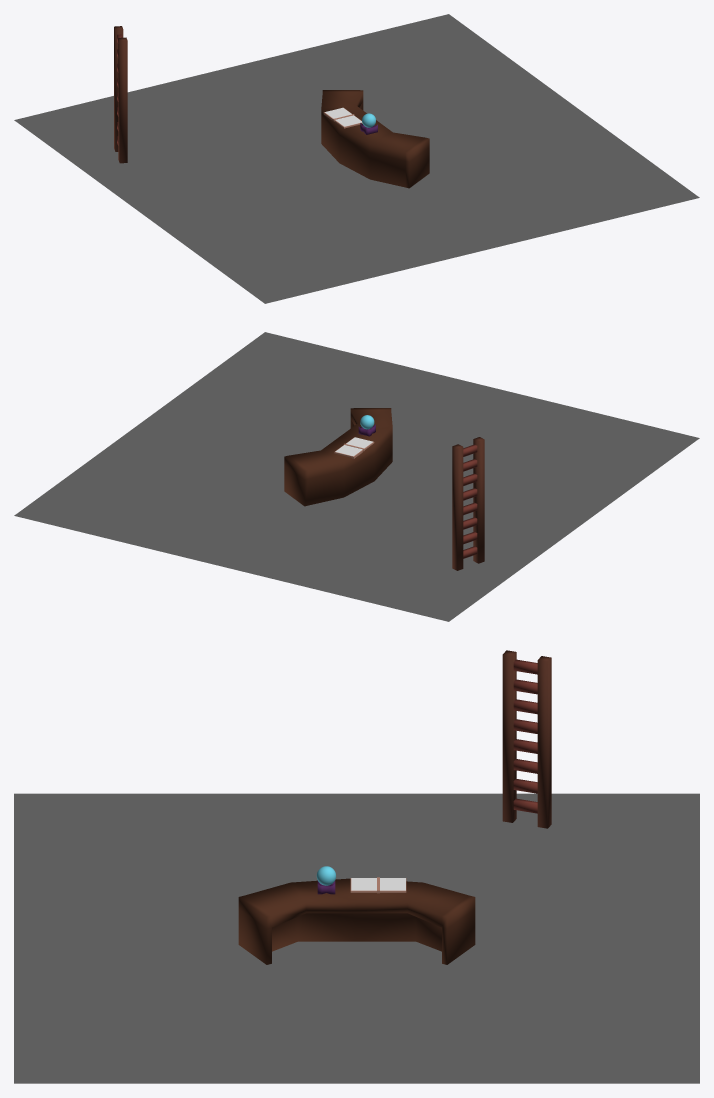
Rendered from firstFloorV1.fbx.
The picture shows the model from 3 angles, top to bottom: view 1: azimuth 30°, elevation 25°; view 2: azimuth 150°, elevation 25°; view 3: azimuth 270°, elevation 25°; orthographic projection. The views are drawn at different scales.
Visible parts, largest first — view 1: floor, Table, Ladder, Book; view 2: floor, Table, Ladder, ladder steps, Book; view 3: floor, Table, Ladder, ladder steps, Book.
Part boxes in pixels (box(x1,y1,x2,y2)): floor: box(14, 14, 699, 303); Table: box(321, 90, 429, 188); Ladder: box(114, 26, 127, 163); Book: box(323, 107, 362, 128); floor: box(14, 332, 699, 621); Table: box(284, 408, 392, 506); Ladder: box(452, 437, 484, 570); ladder steps: box(463, 444, 477, 558); Book: box(334, 437, 374, 458); floor: box(14, 793, 699, 1083); Table: box(238, 878, 475, 964); Ladder: box(502, 650, 551, 828); ladder steps: box(513, 659, 537, 813); Book: box(350, 877, 406, 893).
Bounding box in the file's own units: 3347 × 925 × 3347.
